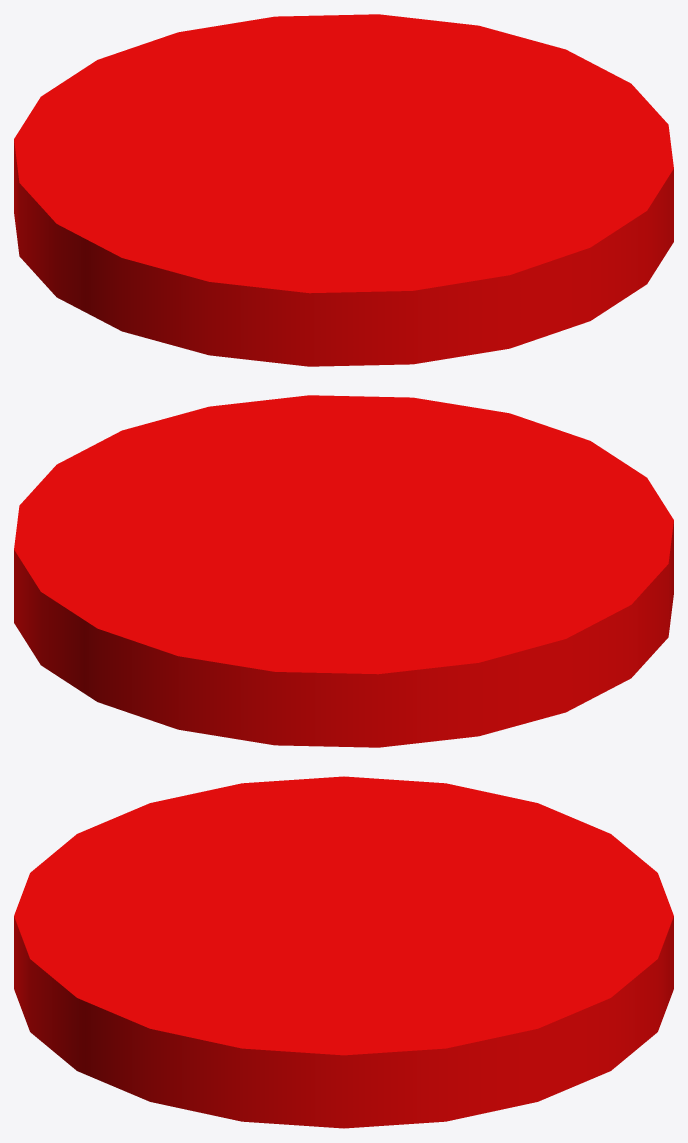
Rendered from Dungeon_RoundTop.fbx.
3 renders of one model, top to bottom at view 1: azimuth 30°, elevation 25°; view 2: azimuth 150°, elevation 25°; view 3: azimuth 270°, elevation 25°, orthographic.
Visible parts, largest first — view 1: CircularTopStone; view 2: CircularTopStone; view 3: CircularTopStone.
Part boxes in pixels (<box>): CircularTopStone: <box>14,14,673,366</box>; CircularTopStone: <box>14,395,673,747</box>; CircularTopStone: <box>14,776,673,1128</box>.
Bounding box in the file's own units: 270 × 33 × 270.
